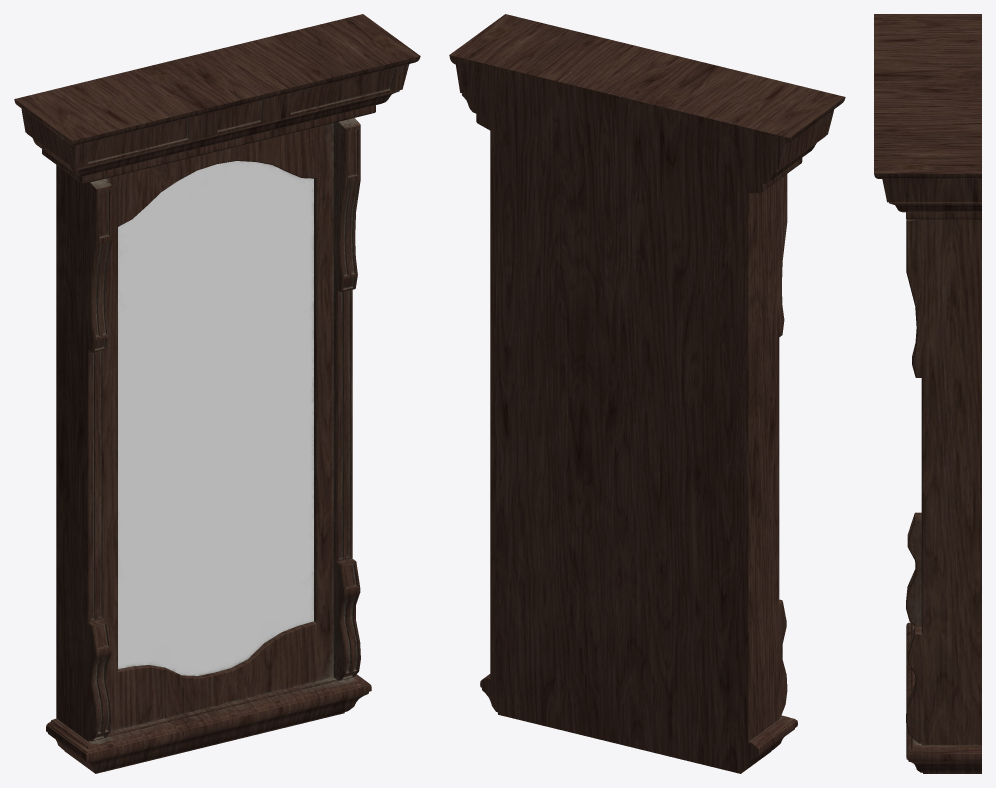
Rendered from WallClock.fbx.
3 renders of one model, left to right at view 1: azimuth 30°, elevation 25°; view 2: azimuth 150°, elevation 25°; view 3: azimuth 270°, elevation 25°, orthographic. The views are drawn at different scales.
Visible parts, largest first — view 1: defaultMaterial.003; view 2: defaultMaterial.003; view 3: defaultMaterial.003.
Boxes of the visible parts, left/top/right/bottom form: defaultMaterial.003: left=14, top=14, right=420, bottom=773; defaultMaterial.003: left=449, top=14, right=845, bottom=773; defaultMaterial.003: left=874, top=14, right=981, bottom=773.
Size of the model in its own units: 38.48 by 70 by 10.99.
Materials: 4 (4 with a texture image).
